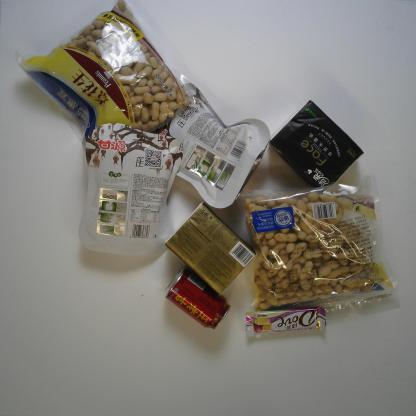Chocolate: (245, 305, 328, 337)
Dried Food: (16, 0, 208, 150), (235, 172, 403, 324)
Dried Fruit: (151, 82, 271, 209), (77, 122, 184, 257)
Drink: (164, 267, 232, 330)
Tissue: (268, 99, 365, 195), (163, 202, 257, 296)
